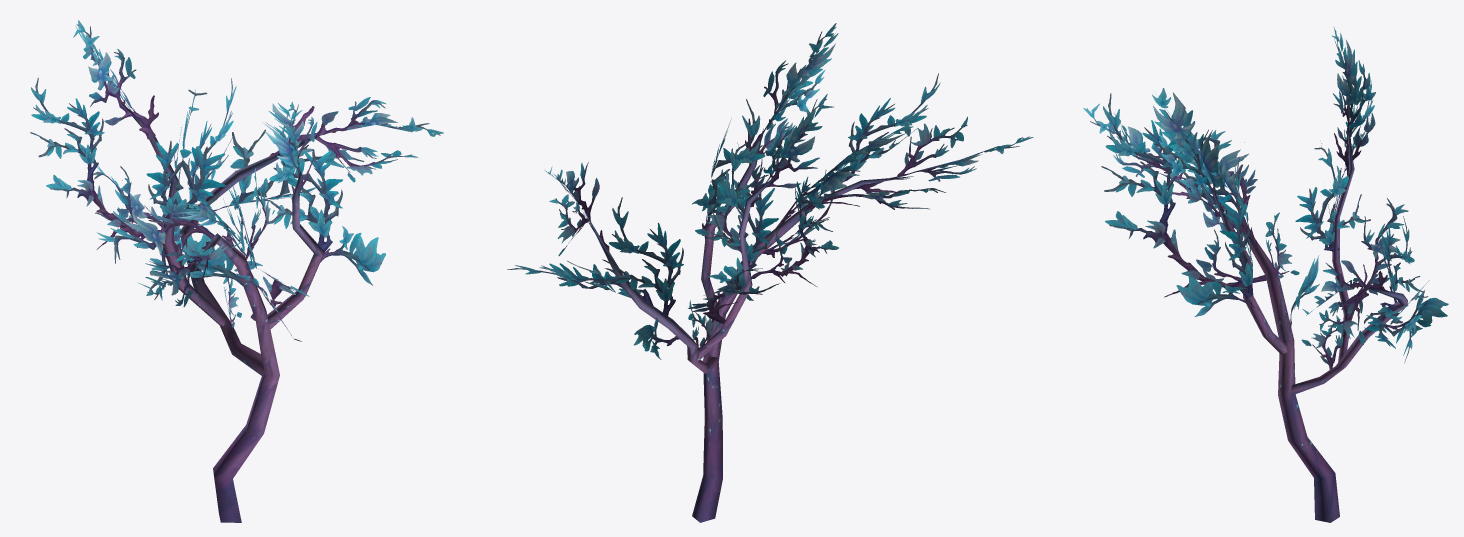
File: tree-small.obj
The picture shows the model from 3 angles, left to right: view 1: azimuth 30°, elevation 25°; view 2: azimuth 150°, elevation 25°; view 3: azimuth 270°, elevation 25°; orthographic projection. The views are drawn at different scales.
Visible parts, largest first — view 1: world/expansion08/doodads/ardenweald/9ard_twiggybutterflytrees_c; view 2: world/expansion08/doodads/ardenweald/9ard_twiggybutterflytrees_c; view 3: world/expansion08/doodads/ardenweald/9ard_twiggybutterflytrees_c.
Part boxes in pixels (left/top/right/bottom): world/expansion08/doodads/ardenweald/9ard_twiggybutterflytrees_c: left=30, top=20, right=443, bottom=522; world/expansion08/doodads/ardenweald/9ard_twiggybutterflytrees_c: left=507, top=23, right=1033, bottom=522; world/expansion08/doodads/ardenweald/9ard_twiggybutterflytrees_c: left=1083, top=26, right=1448, bottom=522.
Bounding box in the file's own units: 5.35 × 6.08 × 4.67.
1 material, 1 textured.
